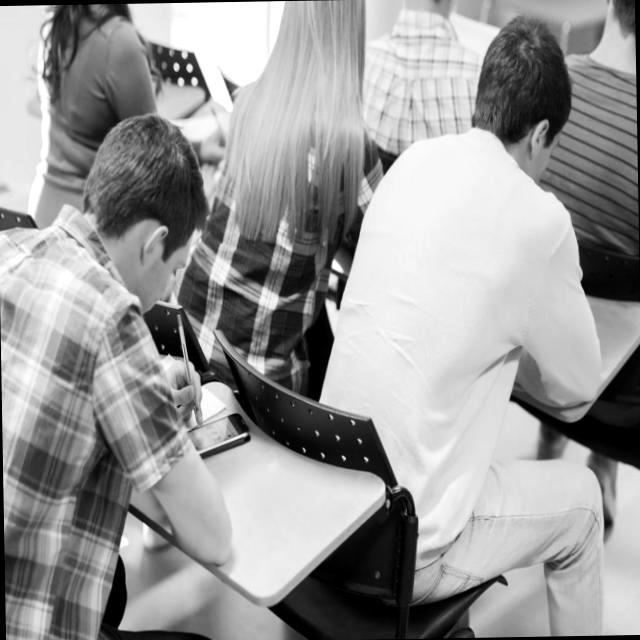phone: (142, 298, 224, 387), (186, 411, 251, 458)
